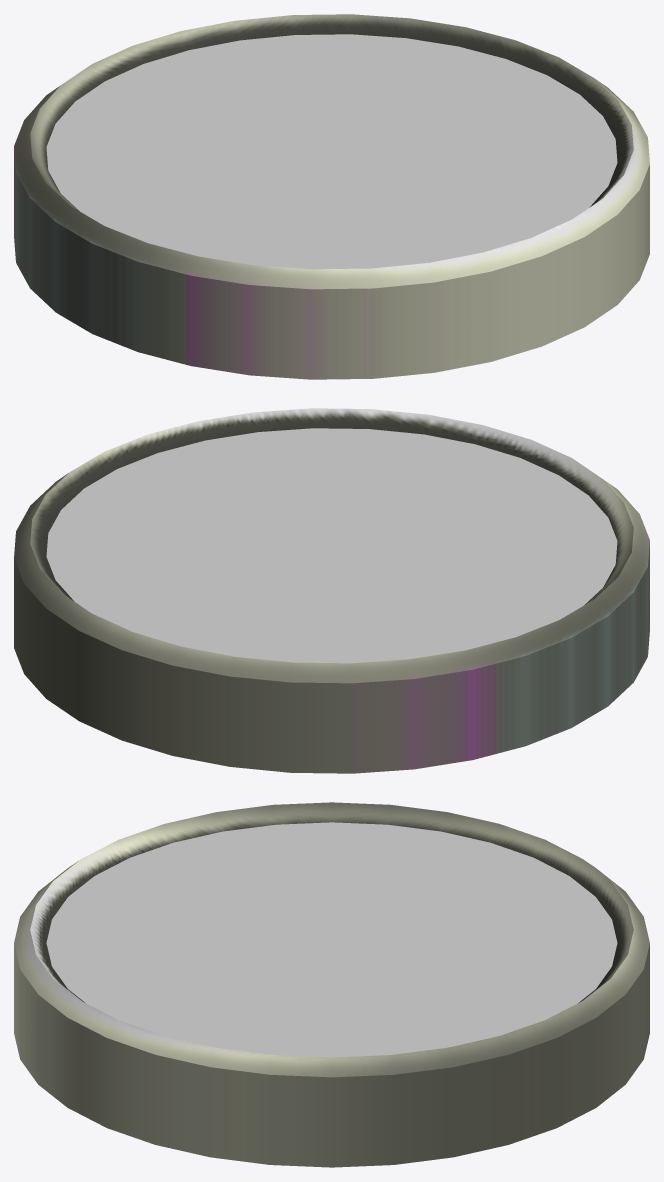
Rendered from SkillRight.fbx.
3 renders of one model, top to bottom at view 1: azimuth 30°, elevation 25°; view 2: azimuth 150°, elevation 25°; view 3: azimuth 270°, elevation 25°, orthographic.
Parts seen in each view (by area): view 1: SkillRight; view 2: SkillRight; view 3: SkillRight.
Part boxes in pixels (left/top/right/bottom): SkillRight: left=14, top=14, right=649, bottom=379; SkillRight: left=14, top=408, right=649, bottom=773; SkillRight: left=14, top=802, right=649, bottom=1167.
Size of the model in its own units: 13.14 by 2.35 by 13.14.
